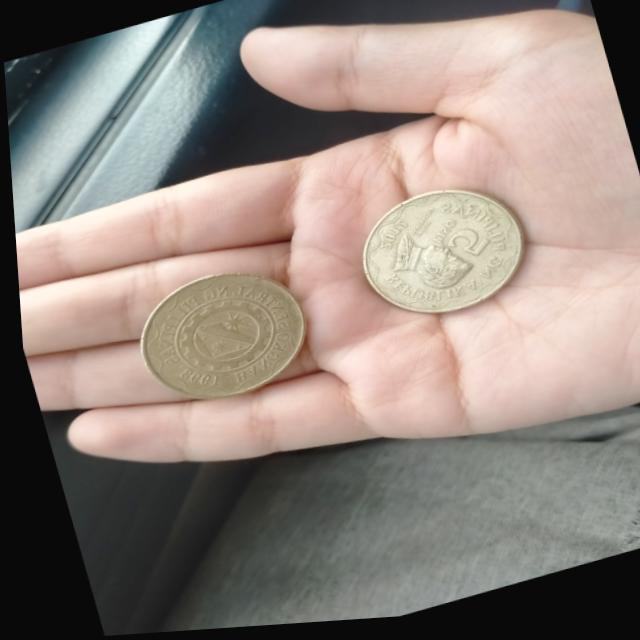5_Old_Back: (118, 254, 315, 422)
5_Old_Front: (407, 205, 506, 286)
